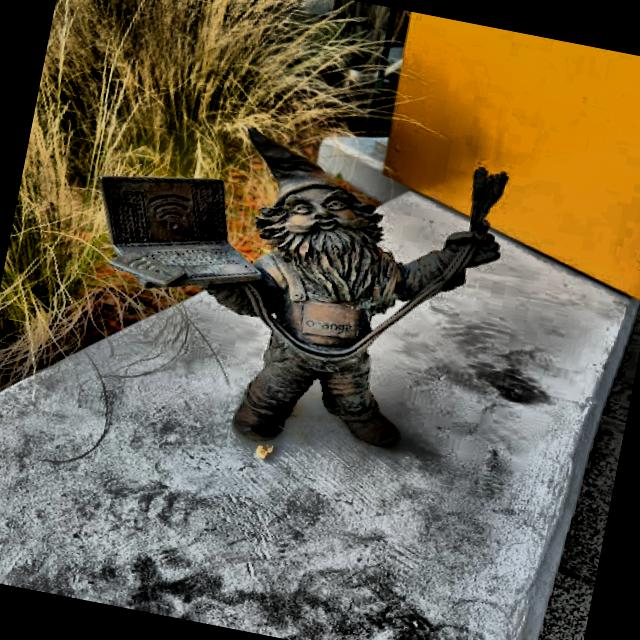Krasnal_Teleclaw: (101, 129, 504, 448)
